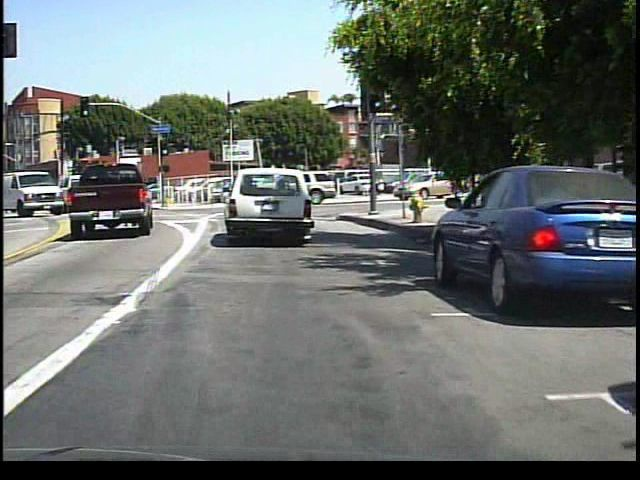person: (363, 166, 380, 201)
